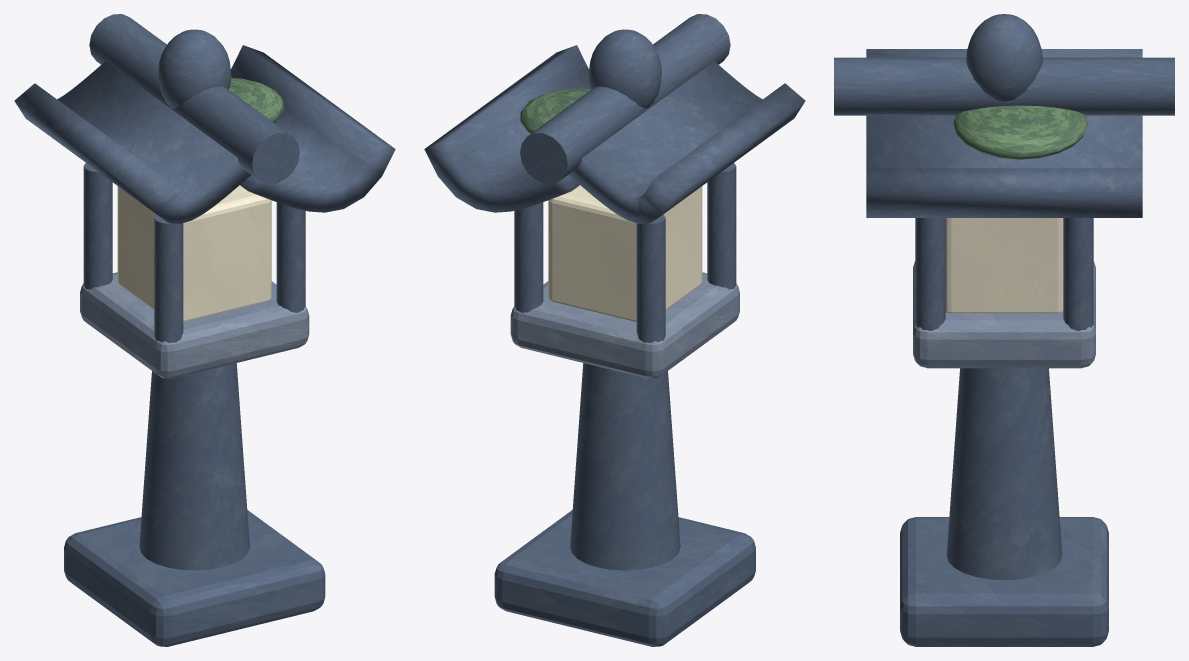
The model's file is lantern.glb.
3 views of the same model, side by side, from view 1: azimuth 30°, elevation 25°; view 2: azimuth 150°, elevation 25°; view 3: azimuth 270°, elevation 25° (orthographic). The views are drawn at different scales.
Visible parts, largest first — view 1: lantern; view 2: lantern; view 3: lantern.
Boxes of the visible parts, x1=… form: lantern: x1=14, y1=14, x2=395, y2=646; lantern: x1=424, y1=14, x2=805, y2=646; lantern: x1=834, y1=14, x2=1174, y2=646.
Size of the model in its own units: 0.9378 by 2.03 by 1.06.
1 material, 1 textured.
